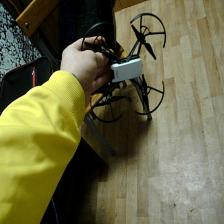drone: (76, 10, 171, 120)
